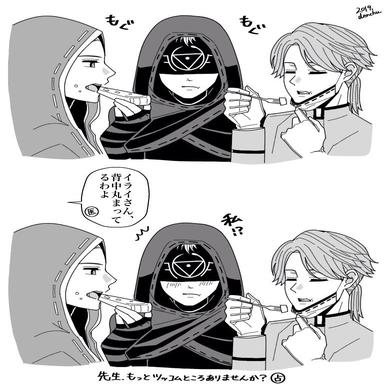bubble: (68, 166, 148, 227)
